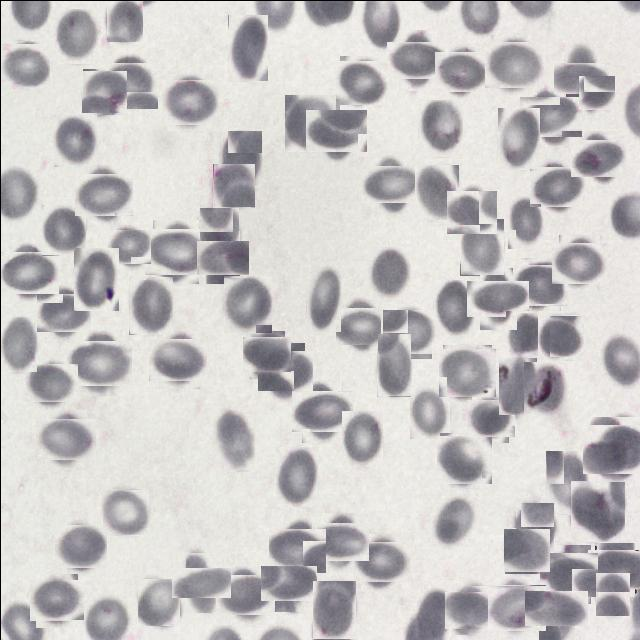red blood cell: (570, 480, 624, 541), (70, 334, 126, 390), (585, 420, 640, 477), (284, 94, 336, 152), (148, 224, 202, 278), (222, 275, 271, 333), (73, 247, 118, 310), (1, 245, 54, 298), (440, 346, 493, 399), (486, 38, 540, 90), (163, 76, 216, 128), (490, 580, 542, 633), (50, 8, 100, 63), (296, 384, 348, 436), (524, 90, 576, 142), (270, 524, 322, 576), (438, 434, 490, 486), (542, 548, 594, 600), (309, 105, 362, 156), (545, 450, 587, 514), (227, 14, 267, 81), (496, 107, 539, 169), (212, 408, 254, 471), (417, 98, 462, 156), (128, 276, 172, 334), (78, 168, 128, 219), (105, 59, 155, 110), (275, 446, 317, 506), (459, 218, 503, 275), (152, 334, 202, 384), (366, 159, 416, 209), (40, 414, 90, 464), (220, 570, 270, 620), (312, 580, 355, 638), (392, 35, 442, 84), (336, 57, 386, 106), (305, 262, 340, 332), (531, 583, 581, 632), (432, 278, 474, 336), (414, 164, 458, 219), (356, 537, 405, 586), (384, 307, 433, 356), (472, 274, 522, 322), (219, 130, 261, 186), (52, 114, 96, 167), (56, 522, 104, 570), (516, 260, 564, 308), (532, 162, 580, 210), (554, 238, 602, 286), (315, 517, 363, 565), (260, 346, 308, 394), (0, 42, 47, 91), (341, 410, 382, 466), (497, 357, 536, 415), (437, 47, 485, 94), (33, 576, 80, 624), (590, 545, 638, 592), (368, 246, 410, 299), (432, 493, 474, 546), (447, 188, 494, 235), (41, 204, 85, 254), (101, 488, 148, 534), (575, 134, 621, 181), (409, 384, 449, 438), (505, 310, 549, 359), (376, 333, 410, 396), (40, 288, 86, 334), (28, 360, 74, 406), (536, 312, 582, 358), (265, 560, 311, 606), (506, 195, 544, 249), (0, 316, 36, 372), (137, 578, 179, 625), (514, 502, 553, 552), (447, 588, 491, 632), (178, 560, 222, 604), (558, 55, 602, 99), (81, 69, 125, 113), (504, 528, 548, 572), (198, 207, 238, 255), (200, 235, 244, 278), (468, 396, 511, 439), (212, 163, 254, 207), (336, 304, 378, 346), (245, 333, 287, 375), (105, 0, 142, 42), (594, 572, 629, 616), (109, 226, 148, 265), (578, 74, 614, 110)
trophozoite: (523, 361, 564, 413)
